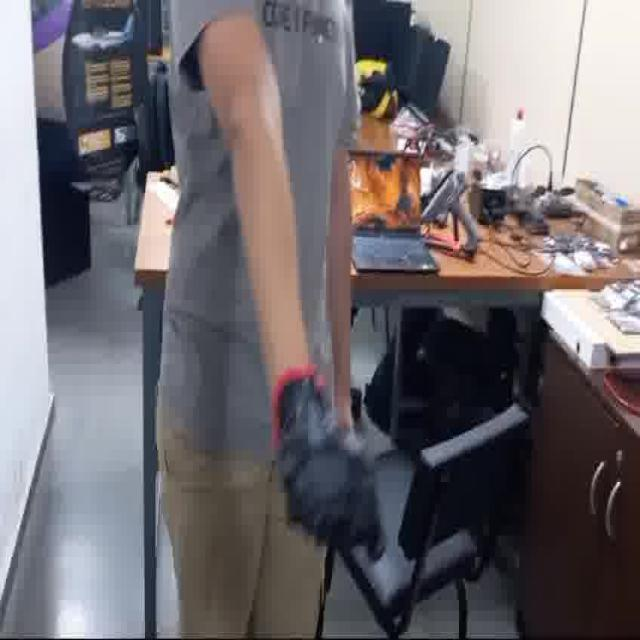Gloves: (272, 378, 394, 565)
